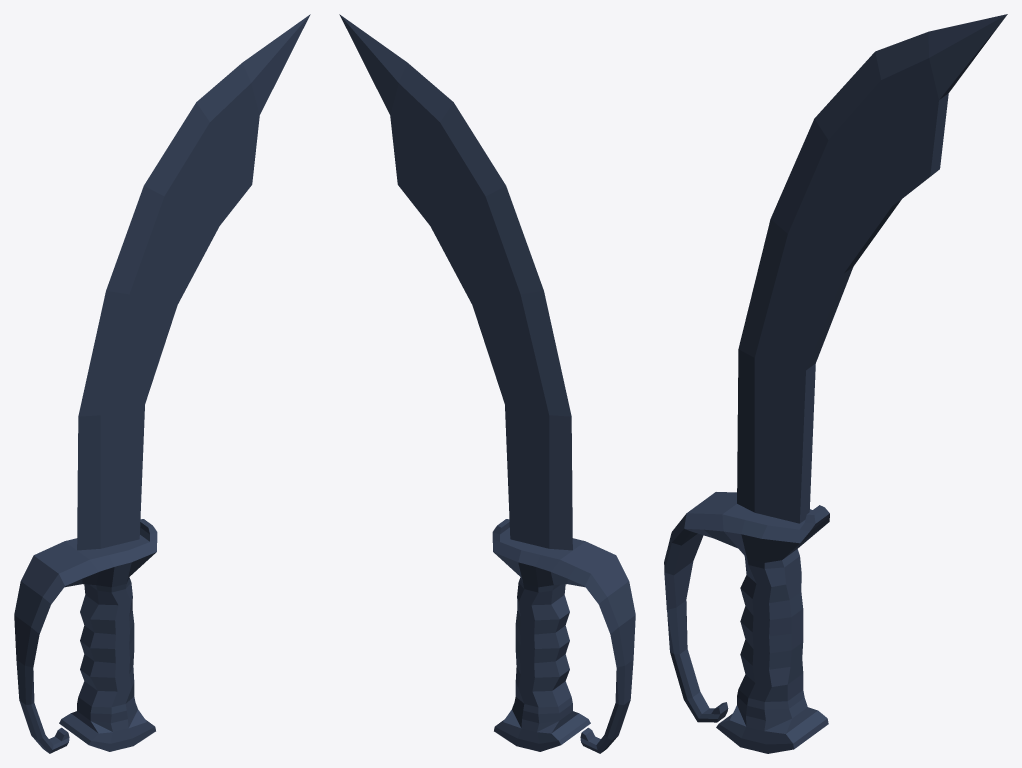
Rendered from Cutlass.obj.
The picture shows the model from 3 angles, left to right: view 1: azimuth 30°, elevation 25°; view 2: azimuth 150°, elevation 25°; view 3: azimuth 330°, elevation 25°; orthographic projection. The views are drawn at different scales.
Visible parts, largest first — view 1: Cutlass_Cube.010; view 2: Cutlass_Cube.010; view 3: Cutlass_Cube.010.
Part boxes in pixels (x1=…): Cutlass_Cube.010: x1=14, y1=14, x2=310, y2=753; Cutlass_Cube.010: x1=339, y1=14, x2=635, y2=753; Cutlass_Cube.010: x1=664, y1=14, x2=1007, y2=753.
Size of the model in its own units: 9.94 by 22.08 by 2.
